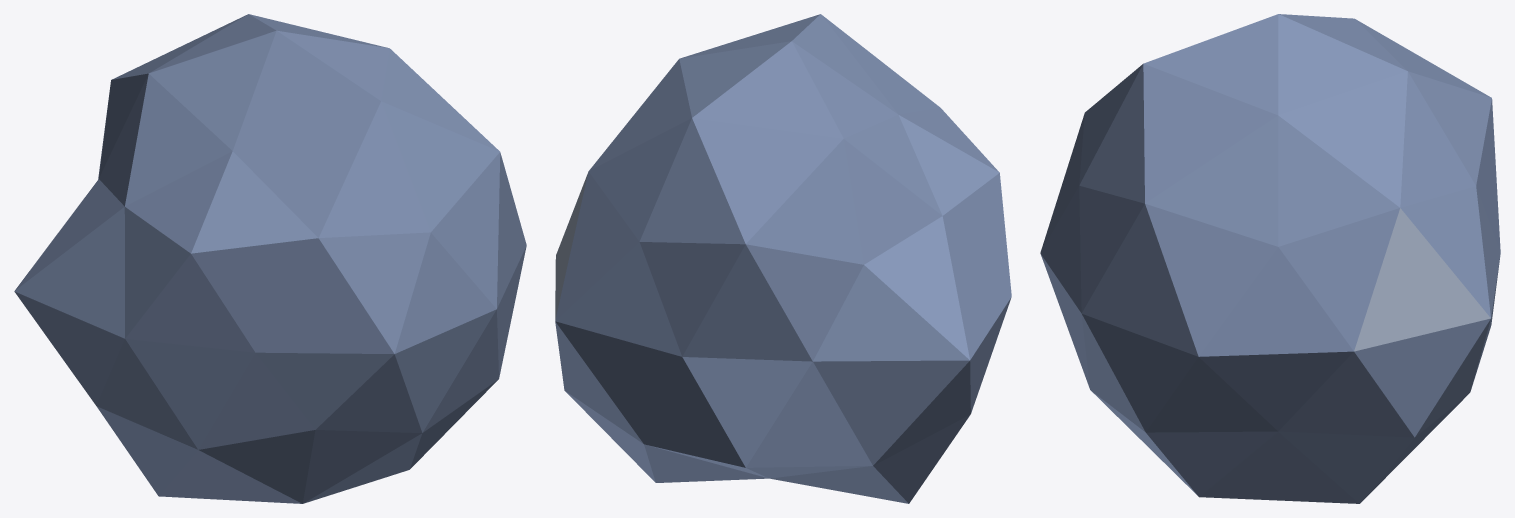
Rendered from wad.fbx.
3 views of the same model, side by side, from view 1: azimuth 30°, elevation 25°; view 2: azimuth 150°, elevation 25°; view 3: azimuth 270°, elevation 25° (orthographic).
Parts seen in each view (by area): view 1: wad; view 2: wad; view 3: wad.
Part boxes in pixels (bbox=[...]): wad: bbox=[14, 14, 526, 503]; wad: bbox=[555, 14, 1011, 503]; wad: bbox=[1040, 14, 1500, 503].
Bounding box in the file's own units: 0.2293 × 0.2227 × 0.21.
